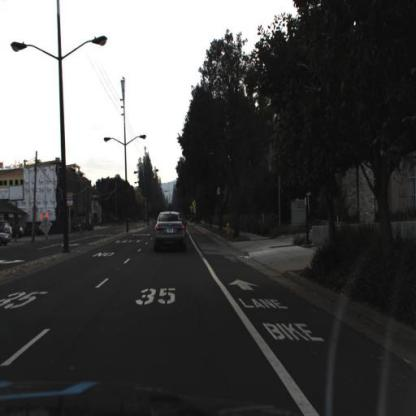car: (151, 209, 189, 255), (1, 222, 19, 255)
